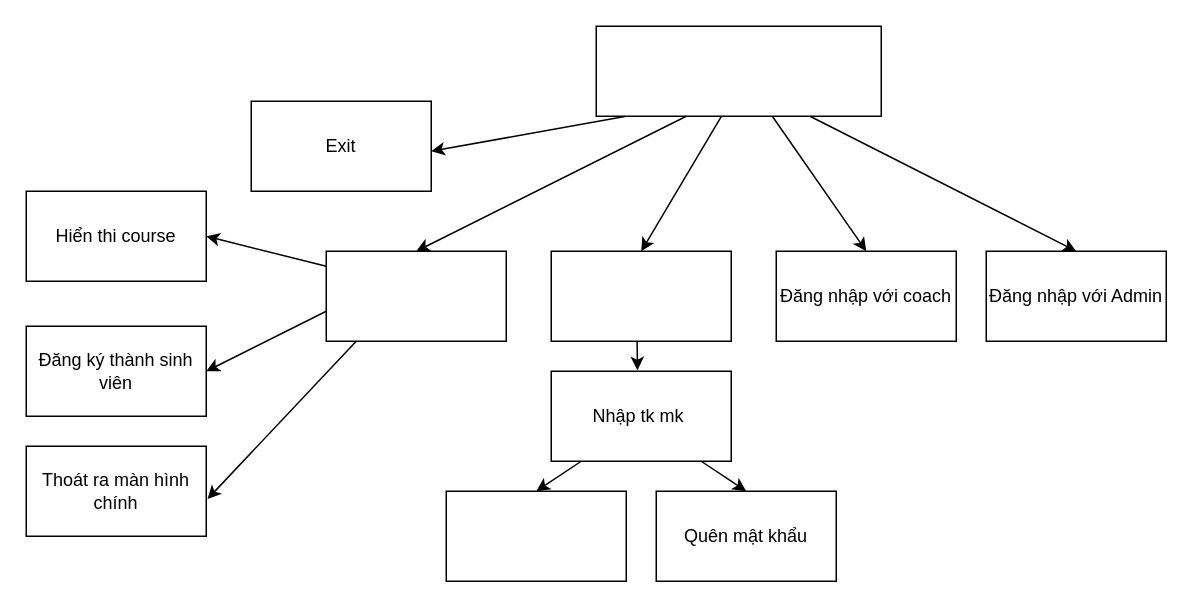
Image size: 1193x608. Some labels were removed from this diagram. The centre of each missing label's shape, as x and y in pixels:
Main: [738,70]
Đăng nhập với guest: [415,295]
Đăng nhập với student: [640,295]
